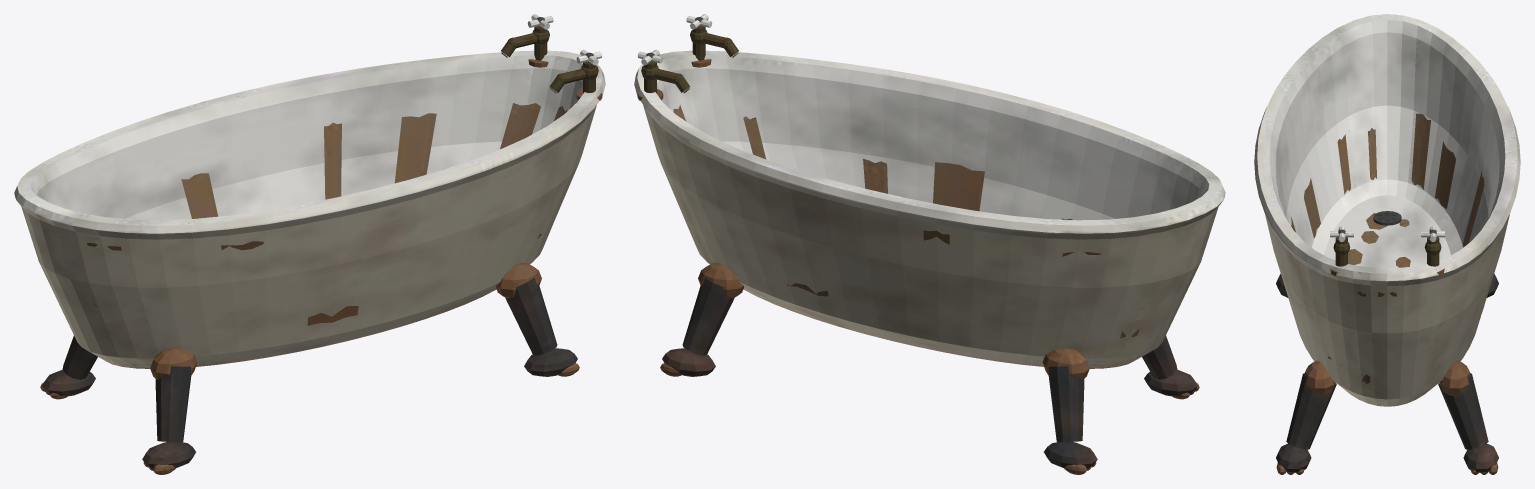
The model's file is B18_bathtub.glb.
3 renders of one model, left to right at view 1: azimuth 30°, elevation 25°; view 2: azimuth 150°, elevation 25°; view 3: azimuth 270°, elevation 25°, orthographic. The views are drawn at different scales.
Parts seen in each view (by area): view 1: Thick cast iron bathtub; view 2: Thick cast iron bathtub; view 3: Thick cast iron bathtub.
Part boxes in pixels (x1,y1,x2,y2): Thick cast iron bathtub: (14, 14, 605, 474); Thick cast iron bathtub: (634, 14, 1225, 474); Thick cast iron bathtub: (1254, 14, 1520, 474).
Size of the model in its own units: 1.7 by 0.809 by 0.73.
8 materials, 8 textured.
